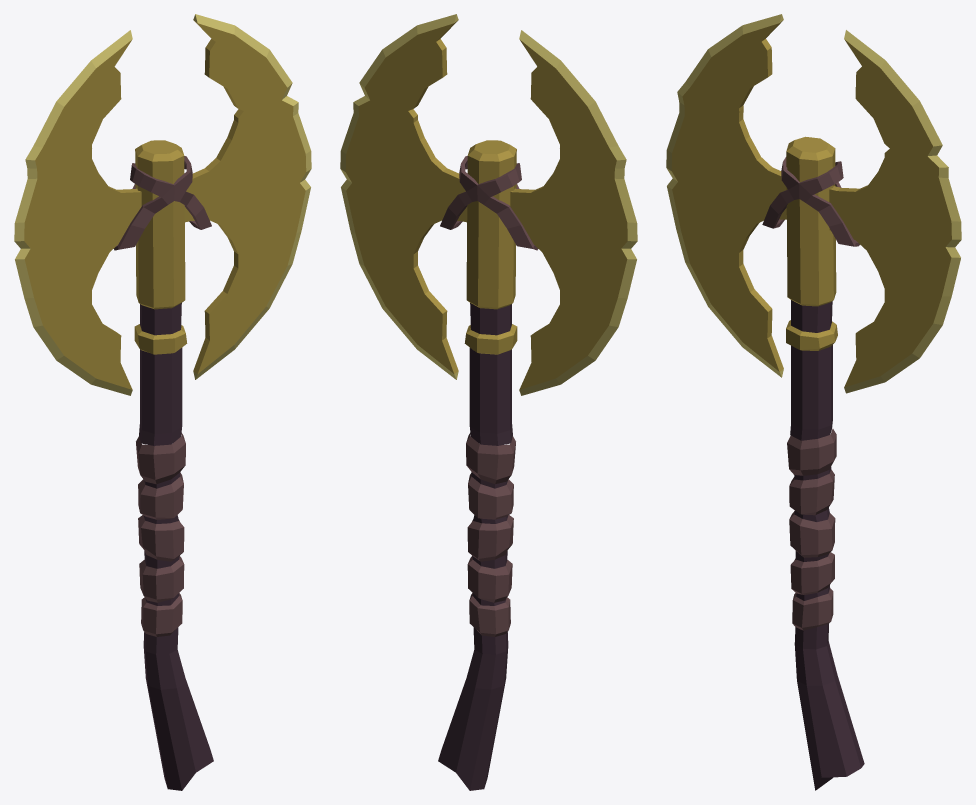
The model's file is quaternius-rpg-items-axe-double-golden.glb.
3 views of the same model, side by side, from view 1: azimuth 30°, elevation 25°; view 2: azimuth 150°, elevation 25°; view 3: azimuth 330°, elevation 25° (orthographic).
Visible parts, largest first — view 1: Axe_Double_Golden; view 2: Axe_Double_Golden; view 3: Axe_Double_Golden.
Boxes of the visible parts, x1,y1,x2,y2 form: Axe_Double_Golden: [14, 14, 311, 790]; Axe_Double_Golden: [340, 14, 637, 790]; Axe_Double_Golden: [666, 14, 961, 790].
Size of the model in its own units: 0.8712 by 2.15 by 0.1355.
